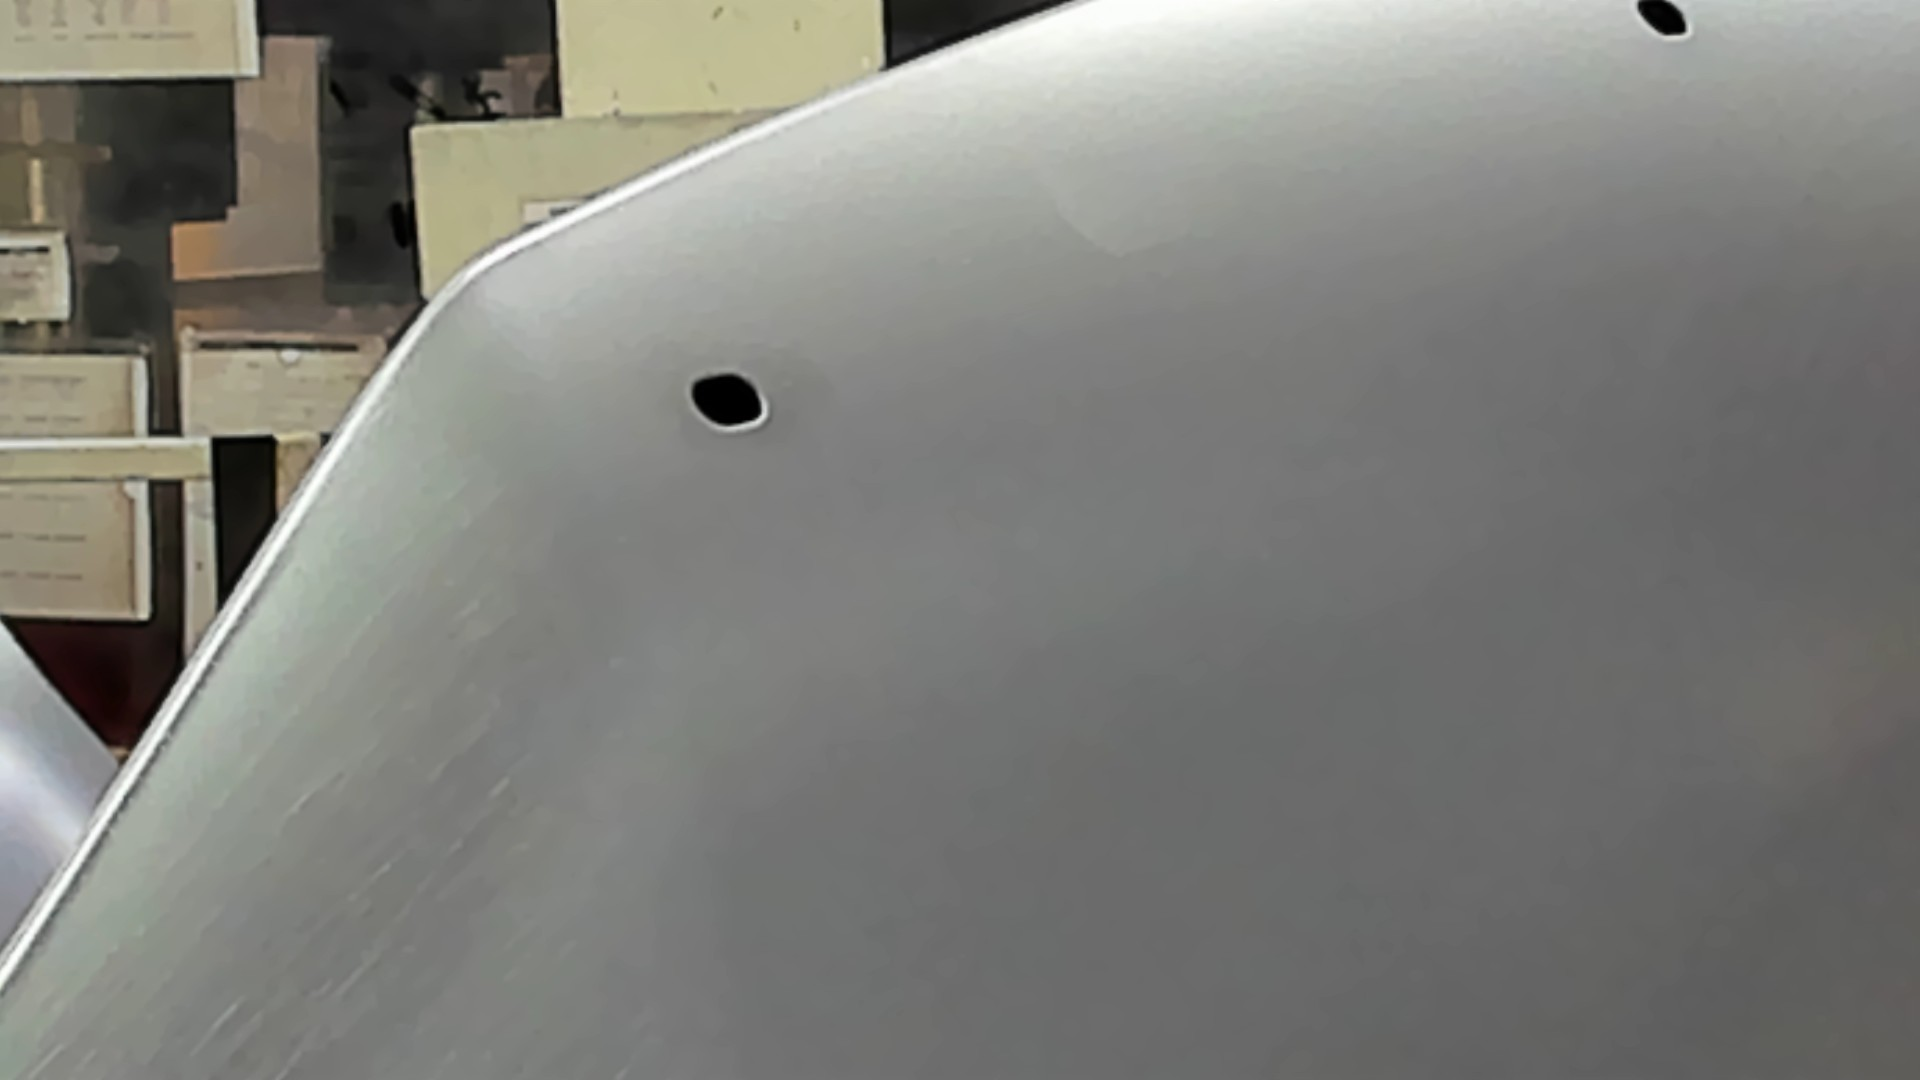amorfo: (686, 371, 773, 436), (1633, 1, 1692, 46)
capo: (907, 88, 1920, 1080)
